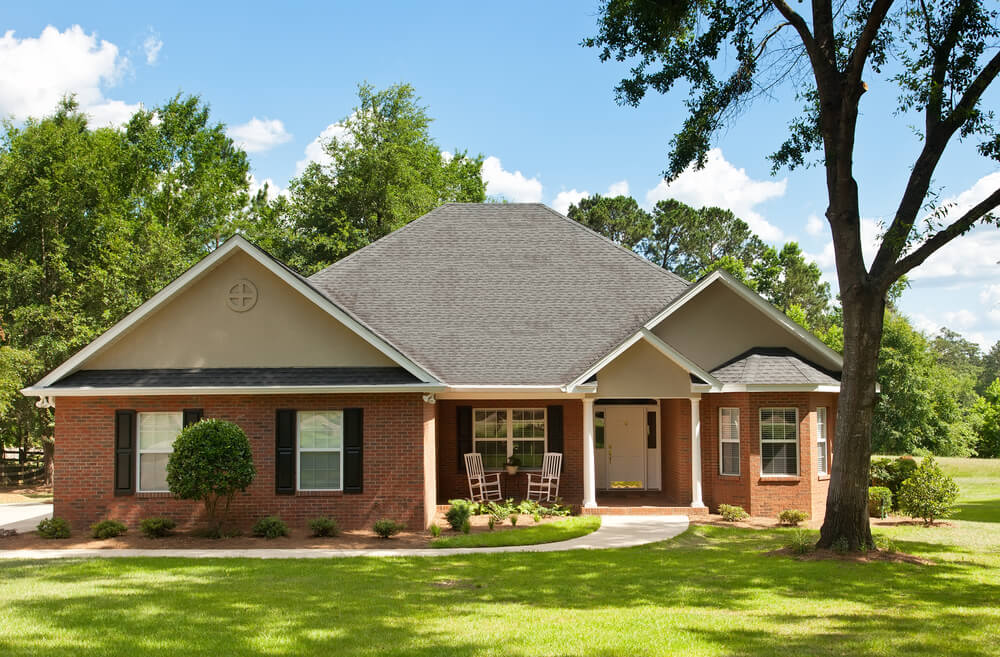tree: (579, 2, 1000, 563), (158, 419, 256, 534)
